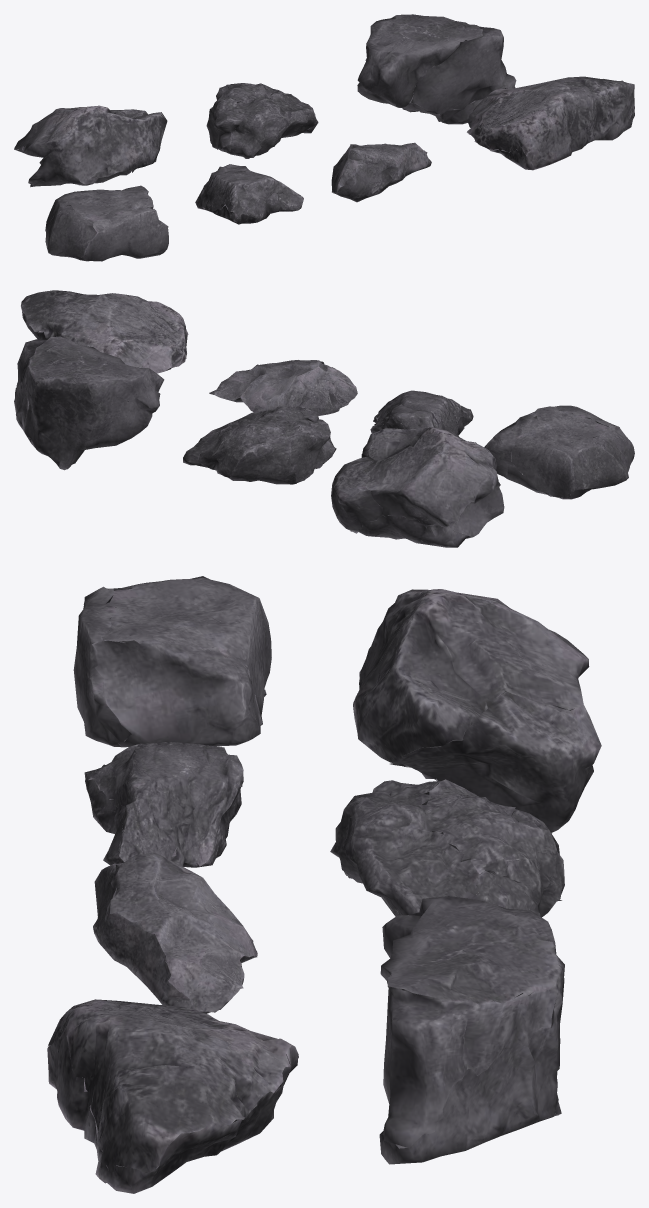
The model's file is ph_rocks_moss.gltf.
3 views of the same model, one above another, from view 1: azimuth 30°, elevation 25°; view 2: azimuth 150°, elevation 25°; view 3: azimuth 270°, elevation 25° (orthographic). The views are drawn at different scales.
Visible parts, largest first — view 1: ph_rocks_moss; view 2: ph_rocks_moss; view 3: ph_rocks_moss.
Boxes of the visible parts, <box> form: ph_rocks_moss: <box>14,14,634,261</box>; ph_rocks_moss: <box>14,290,634,547</box>; ph_rocks_moss: <box>47,576,601,1193</box>.
Bounding box in the file's own units: 8.27 × 1.36 × 3.41.
1 material, 1 textured.
